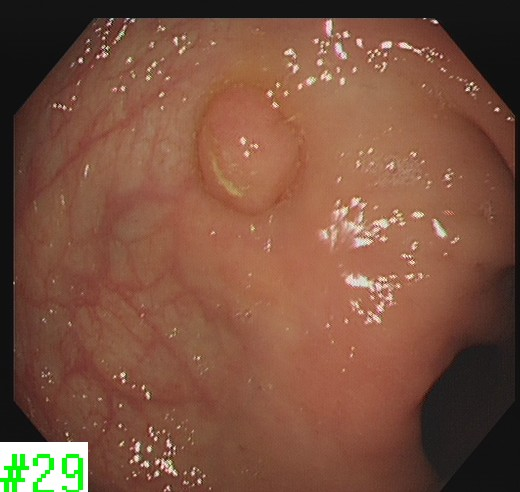adenoma: (191, 80, 305, 218)
